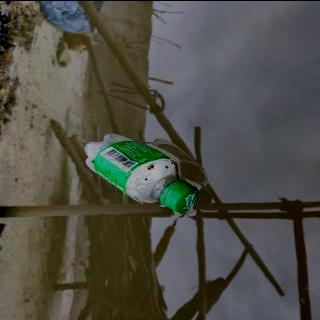bottle: (81, 130, 201, 214)
